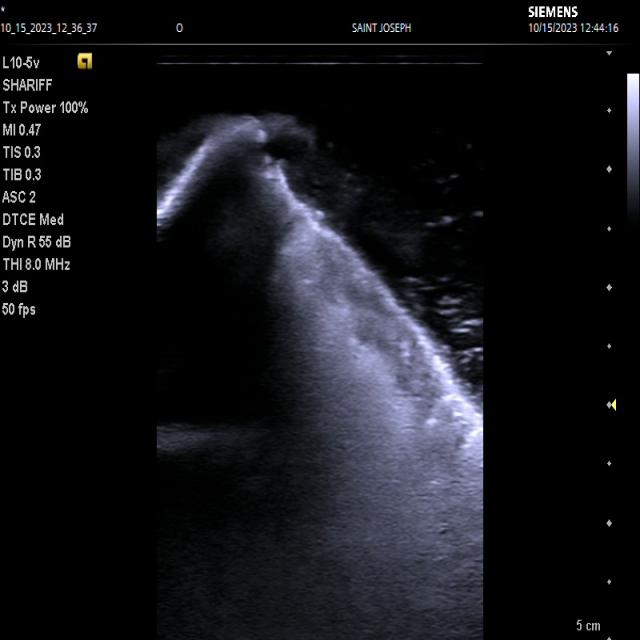tissue: (158, 126, 483, 640)
